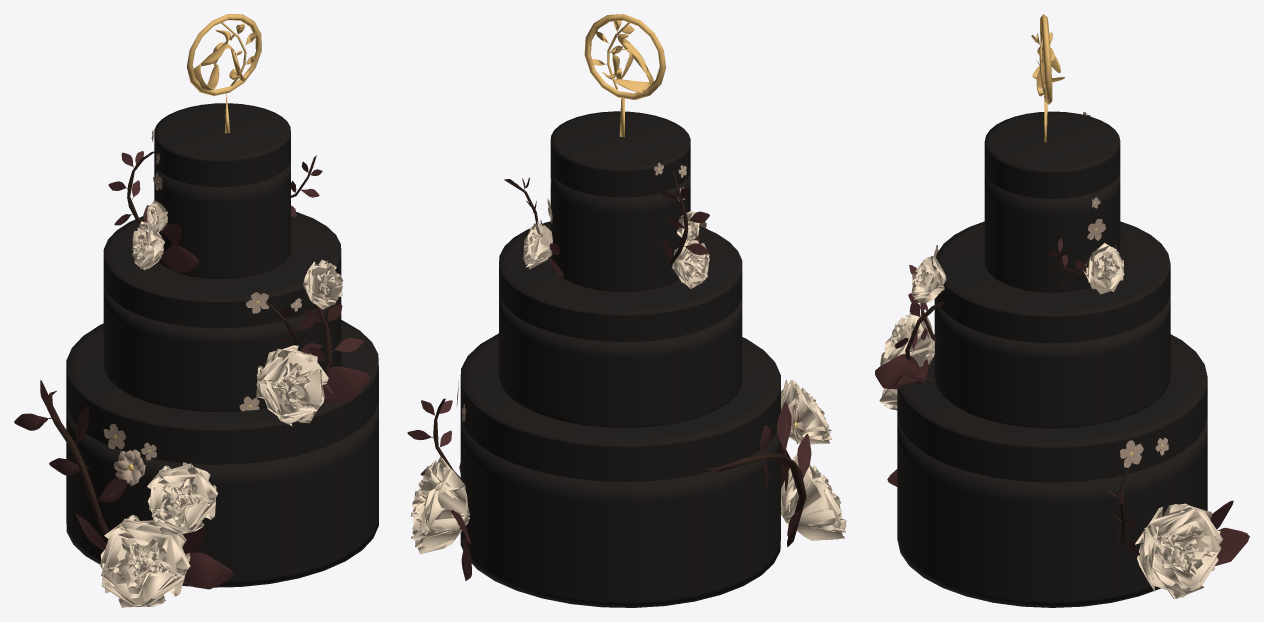
The model's file is 3-tier-black-roses-ring.glb.
The picture shows the model from 3 angles, left to right: view 1: azimuth 30°, elevation 25°; view 2: azimuth 150°, elevation 25°; view 3: azimuth 270°, elevation 25°; orthographic projection. The views are drawn at different scales.
Parts seen in each view (by area): view 1: Cylinder.022, Cylinder.014, Cylinder.021, grid.042, grid.044, grid.040, Plane.093, Cylinder.020, grid.043, Plane.087, Plane.091, Plane.095 (+6 smaller); view 2: Cylinder.022, Cylinder.014, Cylinder.021, grid.029, Cylinder.020, grid.042, Plane.093, grid.040, grid.045, Plane.092, grid.047, Plane.084; view 3: Cylinder.022, Cylinder.014, Cylinder.021, grid.029, grid.044, Cylinder.020, grid.047, Plane.087, grid.043, Plane.095, Plane.082, Plane.084.
Part boxes in pixels (bbox=[...]): Cylinder.022: bbox=[66, 320, 378, 587]; Cylinder.014: bbox=[103, 212, 341, 411]; Cylinder.021: bbox=[154, 103, 290, 279]; grid.042: bbox=[100, 514, 190, 607]; grid.044: bbox=[256, 345, 328, 426]; grid.040: bbox=[147, 462, 217, 537]; Plane.093: bbox=[14, 380, 127, 550]; Cylinder.020: bbox=[187, 14, 261, 133]; grid.043: bbox=[303, 259, 343, 309]; Plane.087: bbox=[322, 366, 370, 403]; Plane.091: bbox=[183, 552, 233, 589]; Plane.095: bbox=[304, 304, 363, 394]; Cylinder.022: bbox=[460, 333, 780, 607]; Cylinder.014: bbox=[499, 221, 742, 427]; Cylinder.021: bbox=[550, 111, 690, 291]; grid.029: bbox=[410, 456, 469, 554]; Cylinder.020: bbox=[584, 14, 665, 137]; grid.042: bbox=[781, 453, 846, 540]; Plane.093: bbox=[703, 402, 811, 547]; grid.040: bbox=[781, 379, 832, 444]; grid.045: bbox=[672, 240, 709, 288]; Plane.092: bbox=[660, 170, 709, 265]; grid.047: bbox=[523, 222, 552, 269]; Plane.084: bbox=[407, 398, 460, 478]; Cylinder.022: bbox=[897, 334, 1207, 607]; Cylinder.014: bbox=[934, 221, 1170, 428]; Cylinder.021: bbox=[984, 111, 1120, 292]; grid.029: bbox=[1135, 503, 1222, 598]; grid.044: bbox=[880, 311, 934, 366]; Cylinder.020: bbox=[1031, 14, 1064, 142]; grid.047: bbox=[1083, 243, 1124, 294]; Plane.087: bbox=[875, 354, 933, 389]; grid.043: bbox=[911, 256, 946, 303]; Plane.095: bbox=[892, 302, 943, 387]; Plane.082: bbox=[1215, 527, 1249, 565]; Plane.084: bbox=[1103, 468, 1139, 555].
Size of the model in its own units: 5.28 by 7.56 by 4.9.
